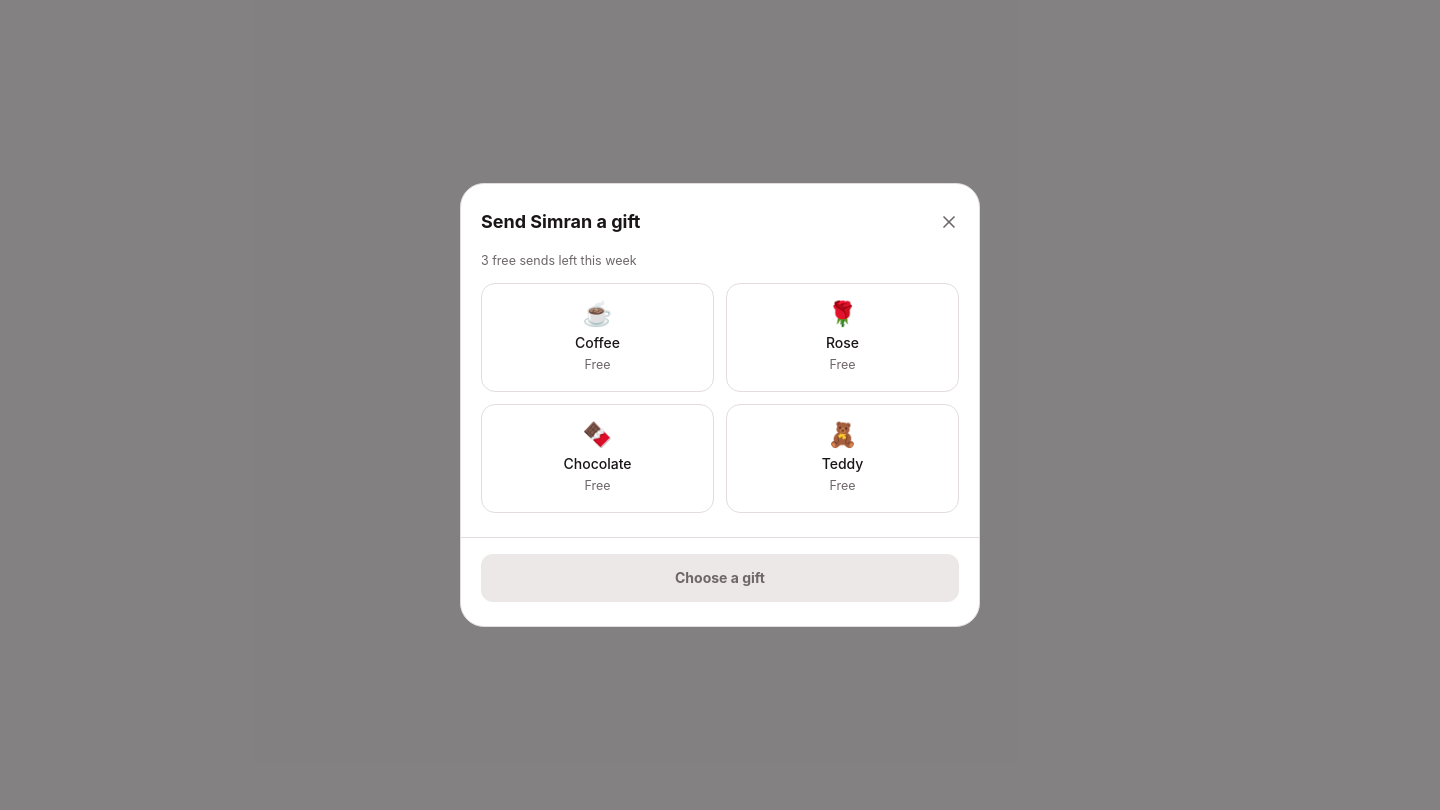
Test: the gift sheet (T-8.10) › GIFT_COOLDOWN: says when, holds that gift, and another goes with a new key
Click the button "🌹 Rose Free" at (842, 337), box [726,283,959,392]
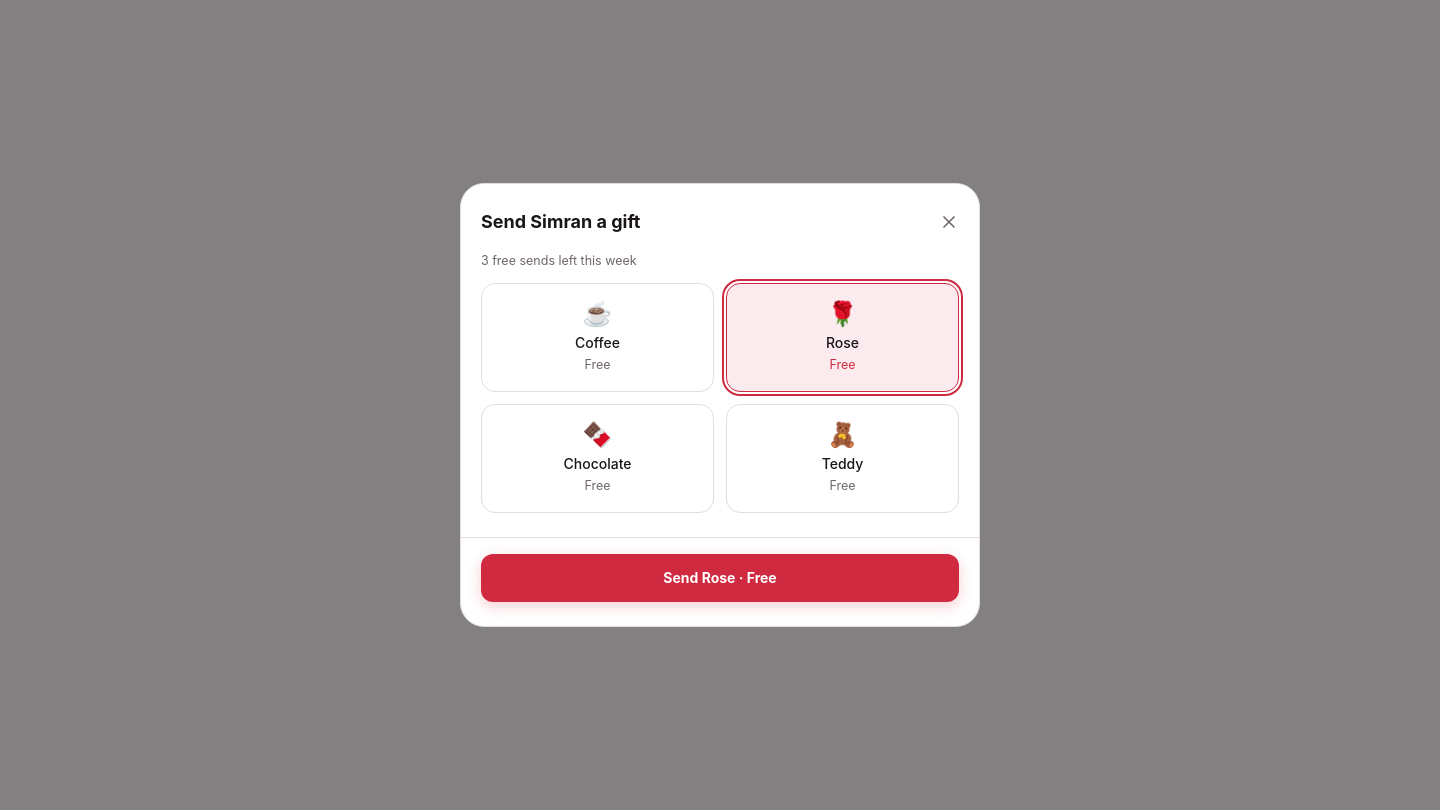
Click the button "Send Rose · Free" at (720, 578), box [481,554,959,602]
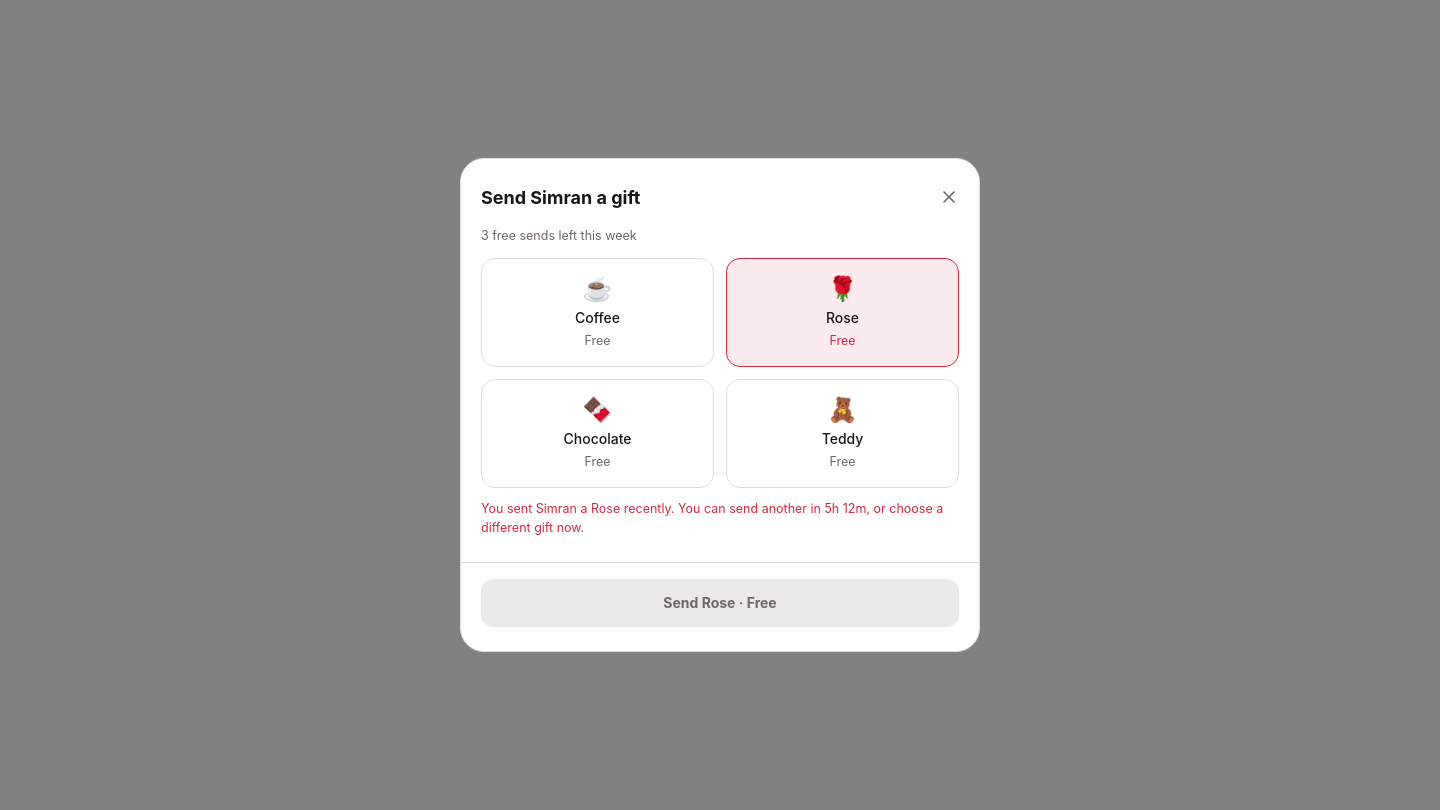
Now the text "You sent Simran a Rose recently. You can send another in 5h 12m, or choose a different gift now." is shown, box [481,502,943,535]
Click the button "☕ Coffee Free" at (598, 313), box [481,258,714,367]
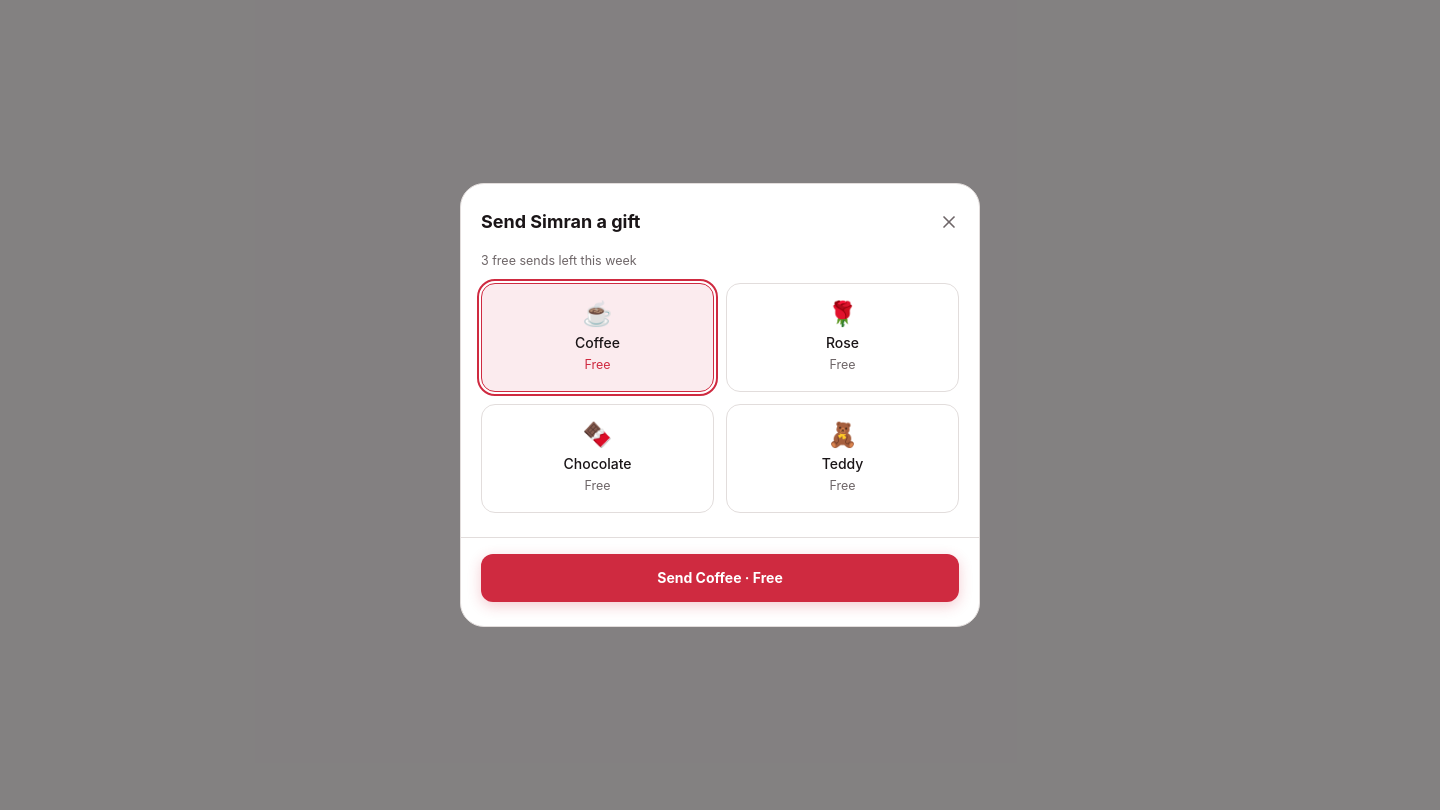
Click the button "Send Coffee · Free" at (720, 578), box [481,554,959,602]
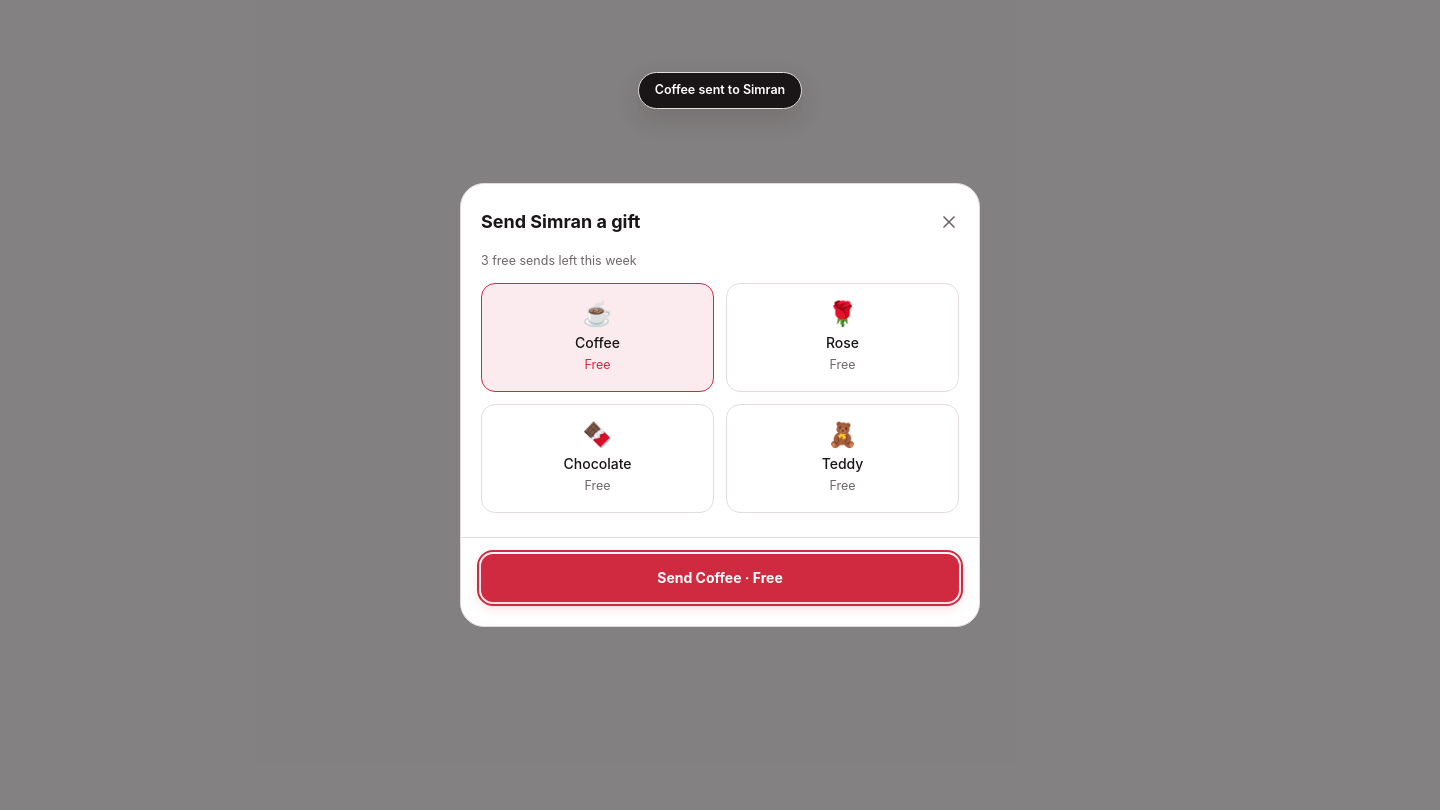
Now the text "Coffee sent to Simran" is shown, box [655,81,785,100]
